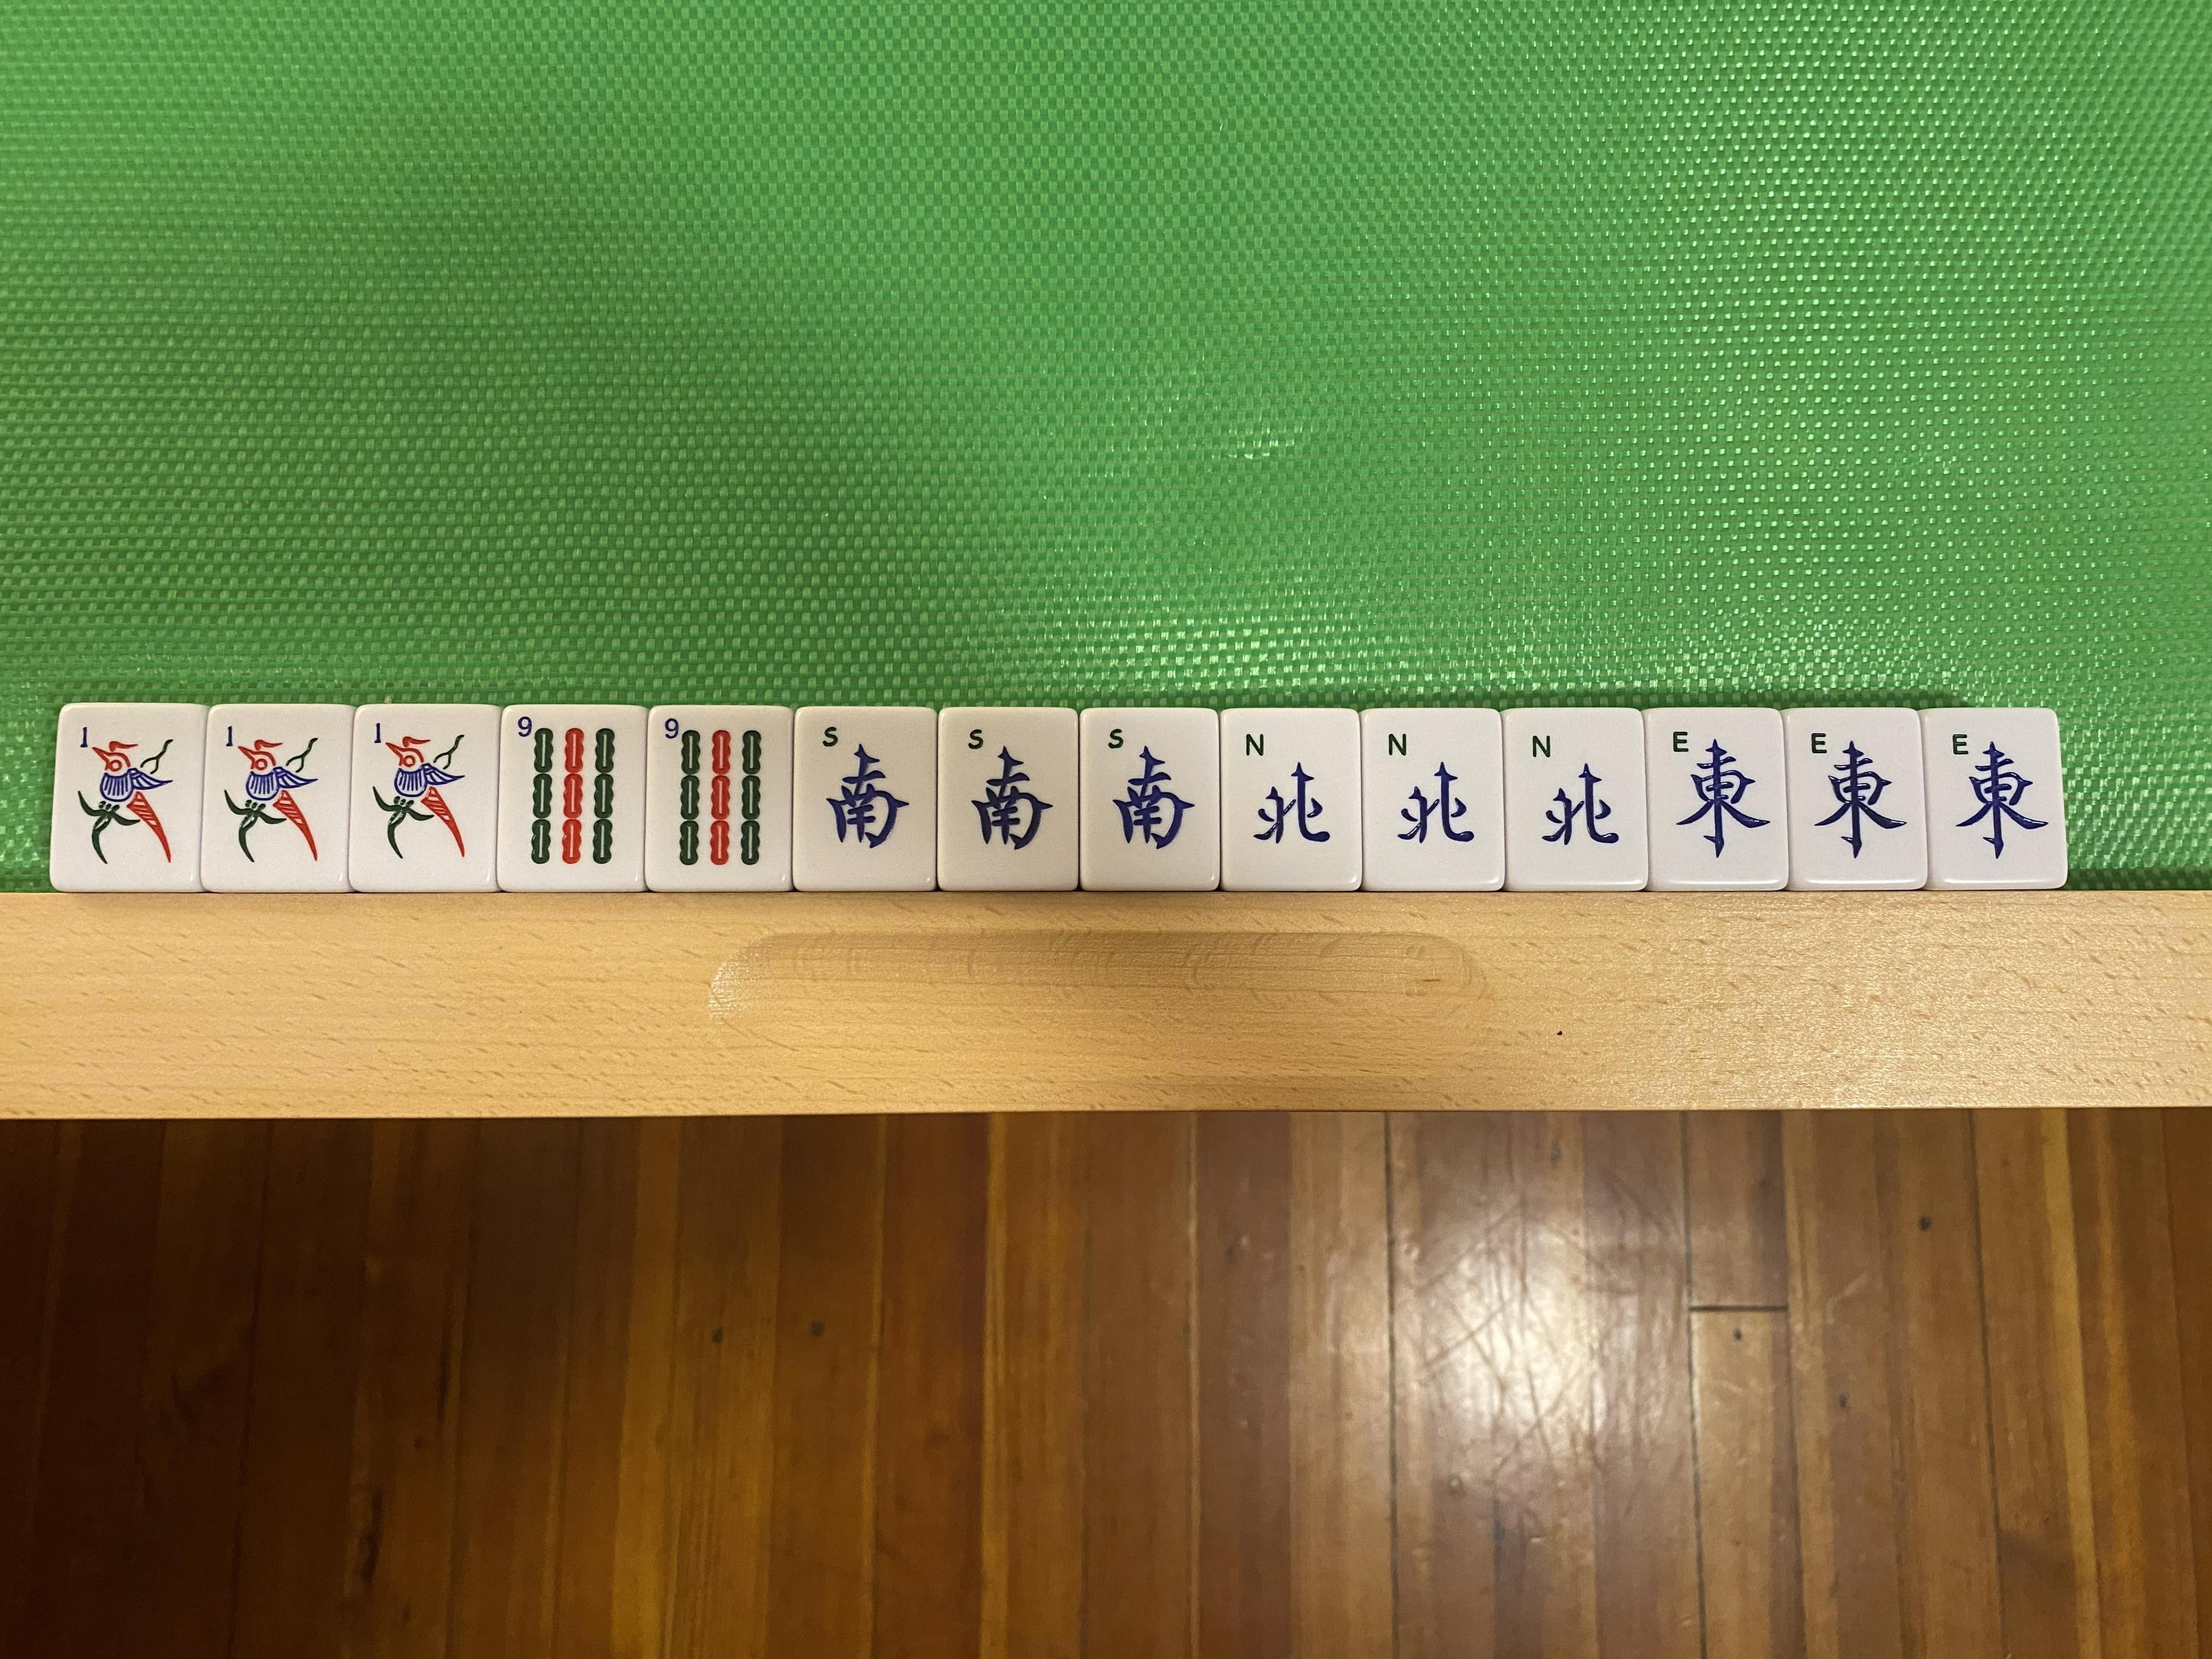bamboo-nine: (653, 709, 784, 889), (507, 708, 636, 884)
bamboo-one: (59, 706, 192, 887), (355, 713, 489, 884), (211, 711, 341, 884)
honor-east_wind: (1653, 714, 1782, 887), (1792, 713, 1919, 887), (1928, 716, 2057, 885)
honor-north_wind: (1366, 716, 1500, 890), (1508, 714, 1641, 884), (1230, 714, 1357, 887)
honor-south_wind: (941, 711, 1071, 885), (798, 711, 927, 884), (1087, 713, 1214, 884)
